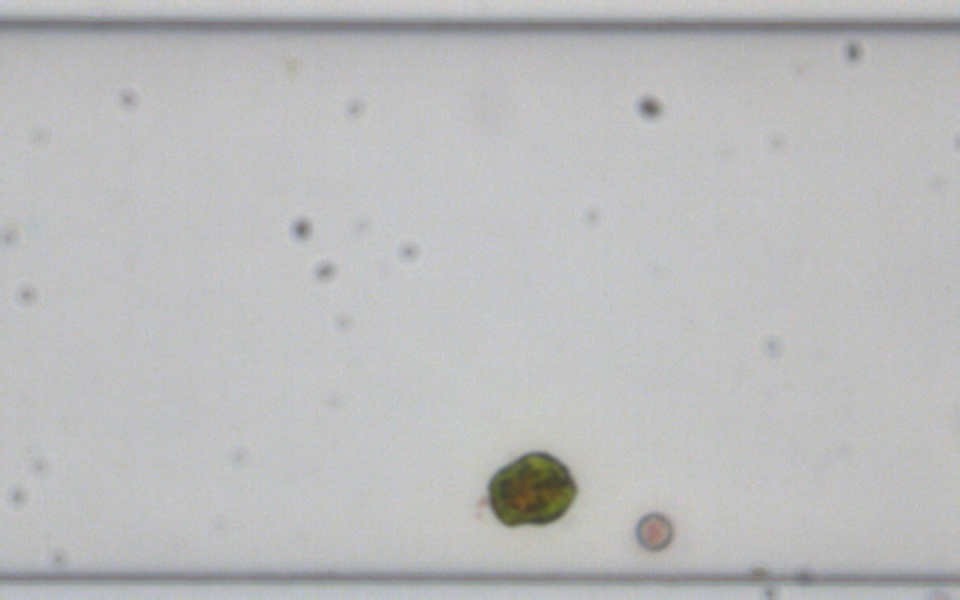Haematococcus: (483, 447, 579, 530)
Porphyridium: (631, 510, 674, 551)
